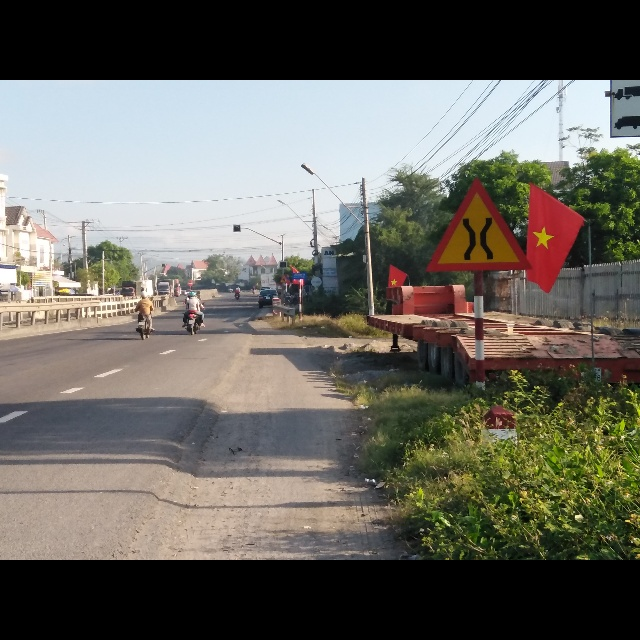Cầu hẹp: (426, 180, 532, 274)
